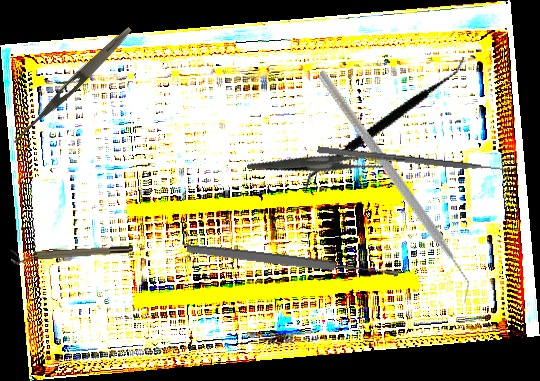Chopper: (258, 69, 527, 307)
Dressing Forceps: (9, 23, 136, 149), (246, 119, 387, 205)
Fixation Ring: (10, 243, 134, 266)
Pusher: (317, 146, 522, 175)
Spatula Surgical: (302, 20, 468, 230)
Surgical Spoon: (186, 242, 399, 281)
